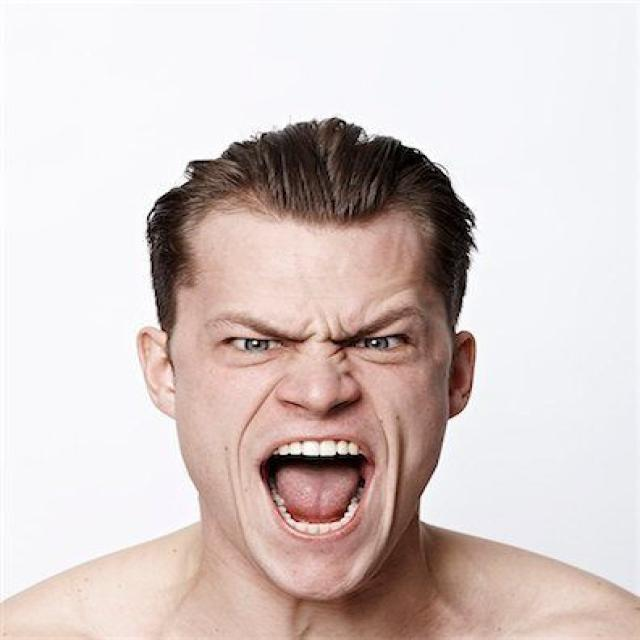sem_oculos: (131, 291, 459, 386)
